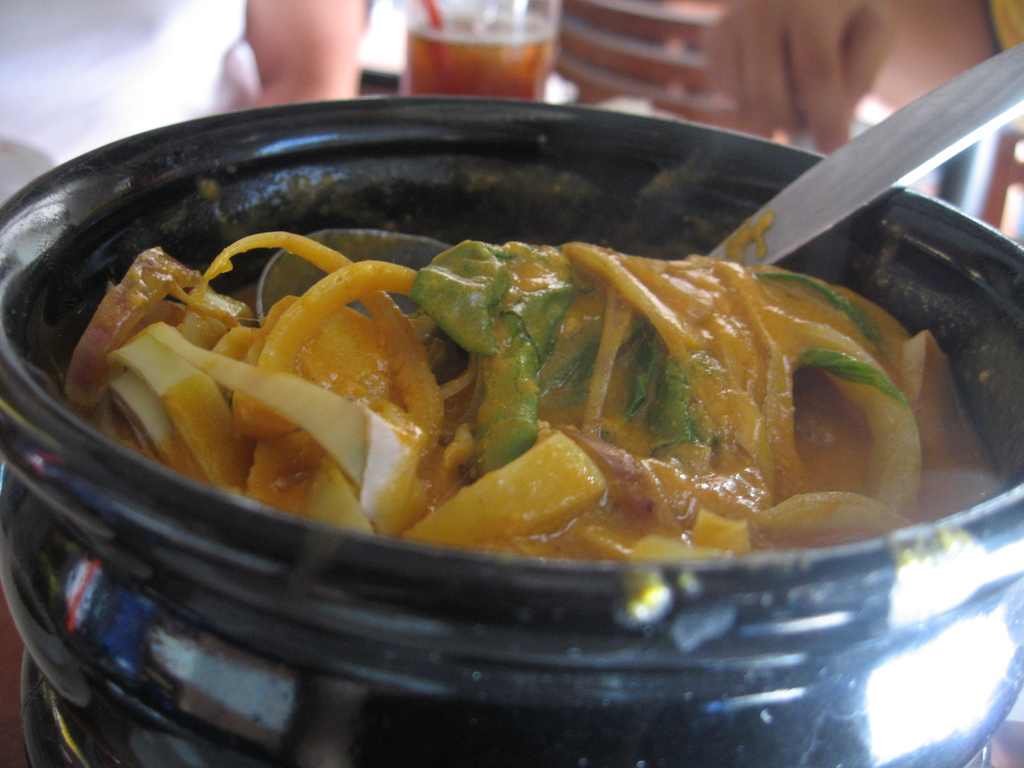person: (0, 0, 373, 181)
